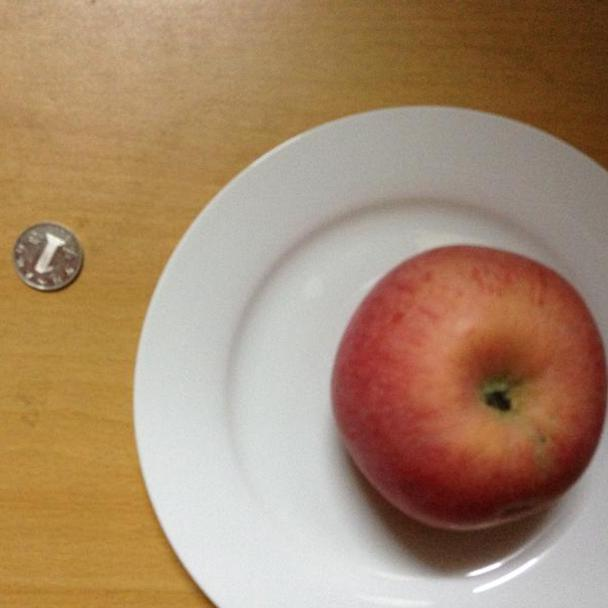apple: (331, 245, 608, 531)
